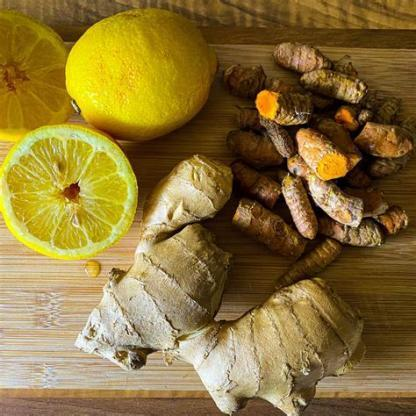lemon: (65, 8, 218, 141), (0, 122, 139, 261), (0, 12, 71, 143)
